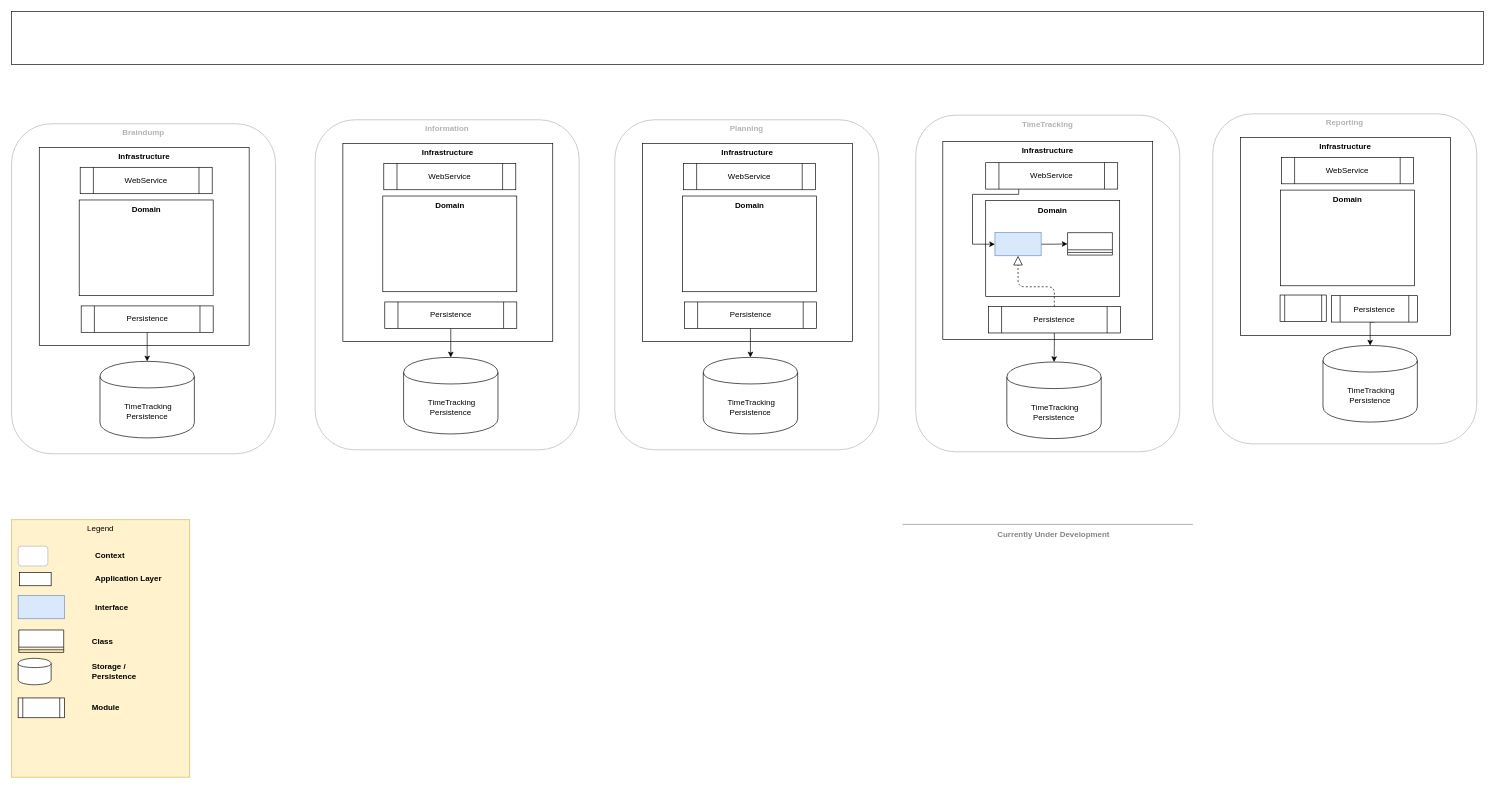
Some shapes in this 1495 by 789 pixel diagram are drawn without their labels. The shapes that lost their labels are listed below. From the top down, each one's centre as x and y in pixels, then its label:
[747,37]: User Interface
[1017,244]: «interface» Repostory
[1089,243]: Model
[1302,307]: ACL
[40,607]: «interface» Name
[41,640]: Classname
